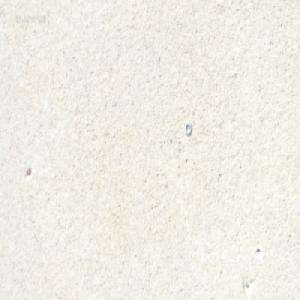Washer: (184, 121, 191, 136)
